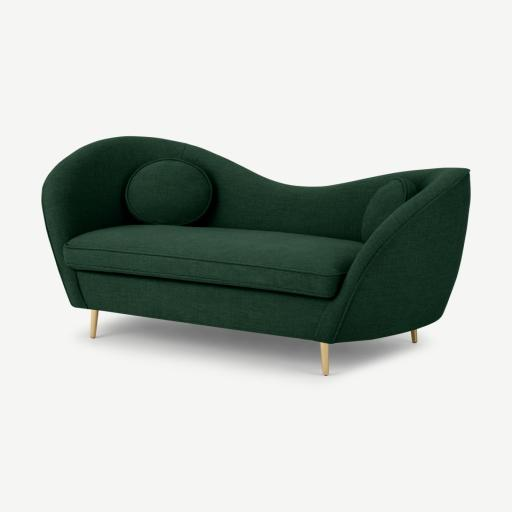back_cushion: (181, 146, 426, 241)
left_arm: (313, 171, 470, 343)
legs: (320, 343, 328, 375), (90, 310, 98, 338), (412, 330, 417, 343)
one-seater: (42, 137, 470, 375)
right_arm: (42, 137, 186, 309)
seat_cushion: (64, 225, 363, 298)
